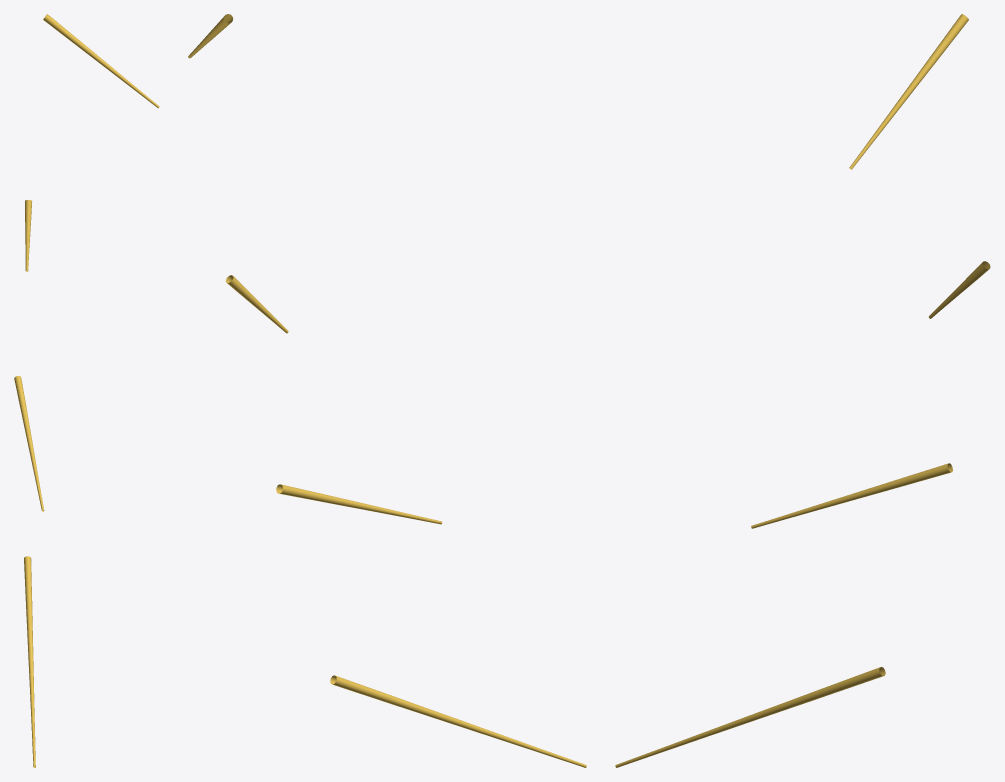
Rendered from Muscular_branches_median_nerve_left.glb.
3 views of the same model, side by side, from view 1: azimuth 30°, elevation 25°; view 2: azimuth 150°, elevation 25°; view 3: azimuth 270°, elevation 25° (orthographic). The views are drawn at different scales.
Visible parts, largest first — view 1: Muscular_branches_of_median_nerve.l_BezierCurve.501; view 2: Muscular_branches_of_median_nerve.l_BezierCurve.501; view 3: Muscular_branches_of_median_nerve.l_BezierCurve.501.
Part boxes in pixels (x1,y1,x2,y2): Muscular_branches_of_median_nerve.l_BezierCurve.501: (14,14,159,767); Muscular_branches_of_median_nerve.l_BezierCurve.501: (188,14,586,767); Muscular_branches_of_median_nerve.l_BezierCurve.501: (615,14,990,767).
Size of the model in its own units: 0.0203 by 0.0569 by 0.0229.
